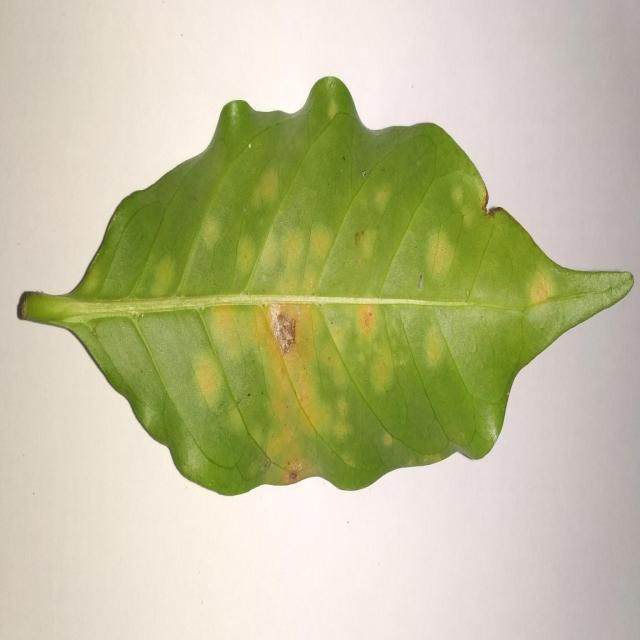Enfermedad-Roya: (15, 77, 636, 500)
